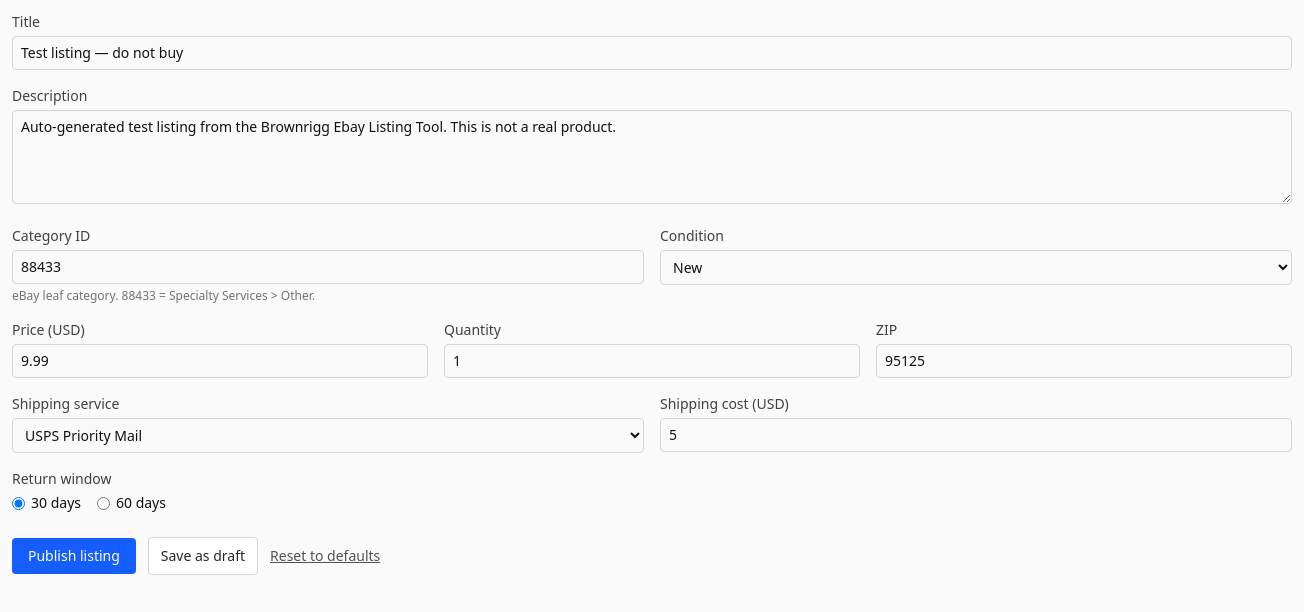
Scenario: ListingForm › shows a field error when ZIP is malformed
Replace the text in the field labelled "ZIP" with "951" at (1084, 361), box [876, 344, 1292, 378]
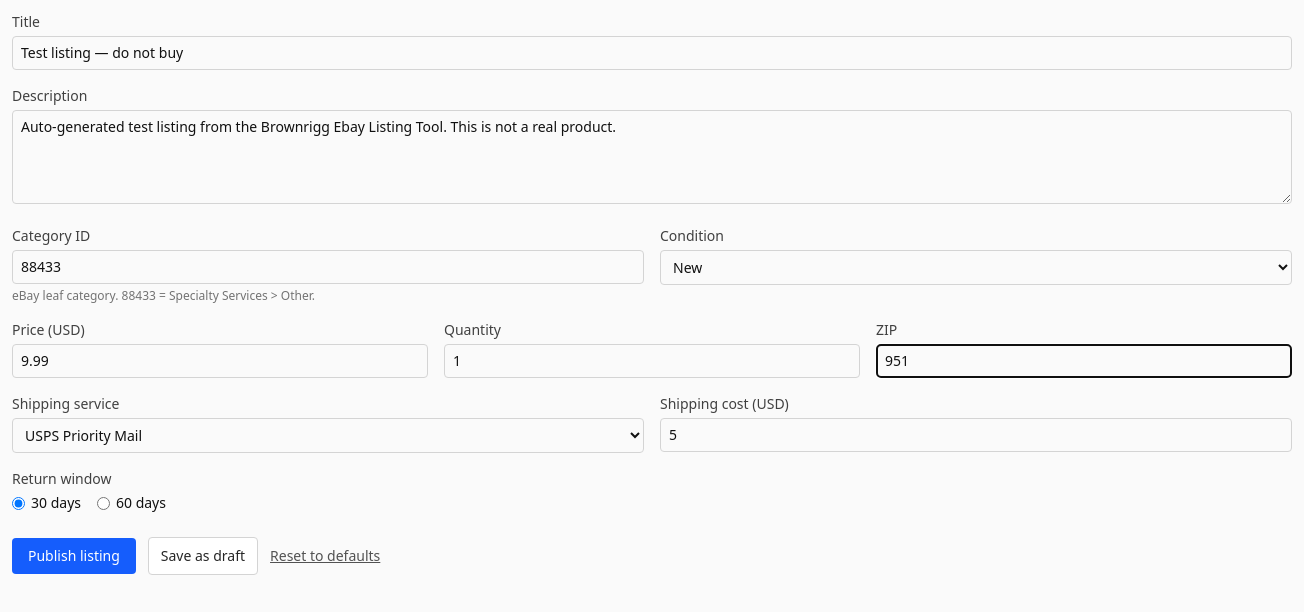
Click the button with test id "publish-button".
click(74, 556)  # box [12, 538, 136, 574]
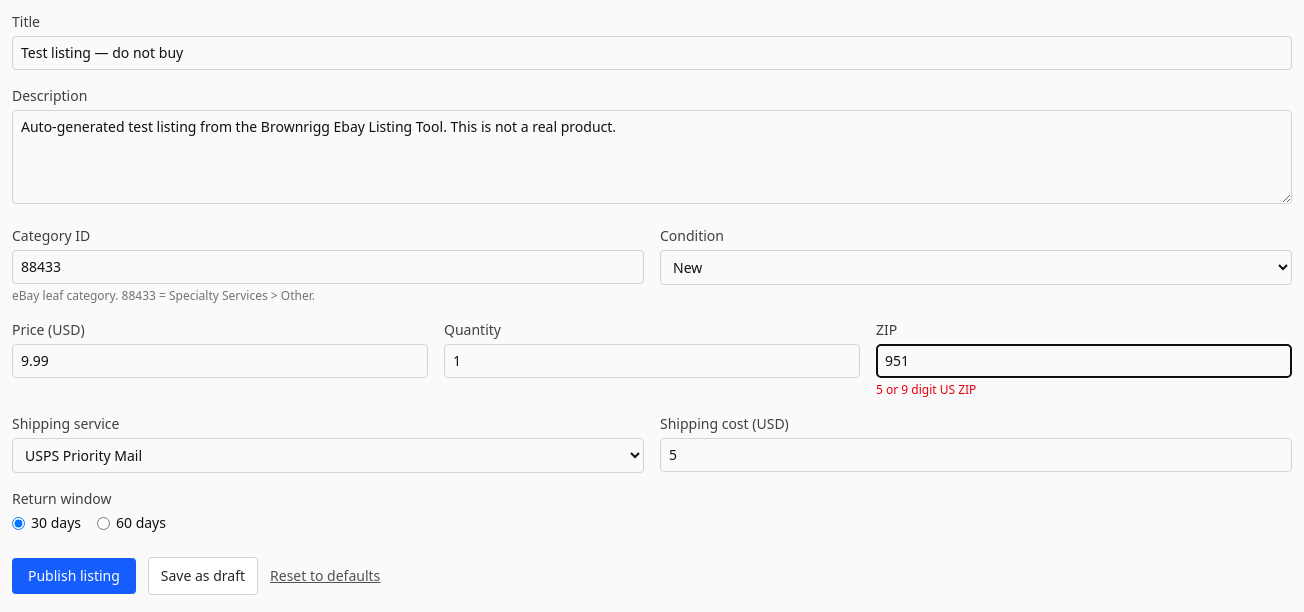
Expected: the text "5 or 9 digit US ZIP" is shown, [876, 381, 976, 398]
